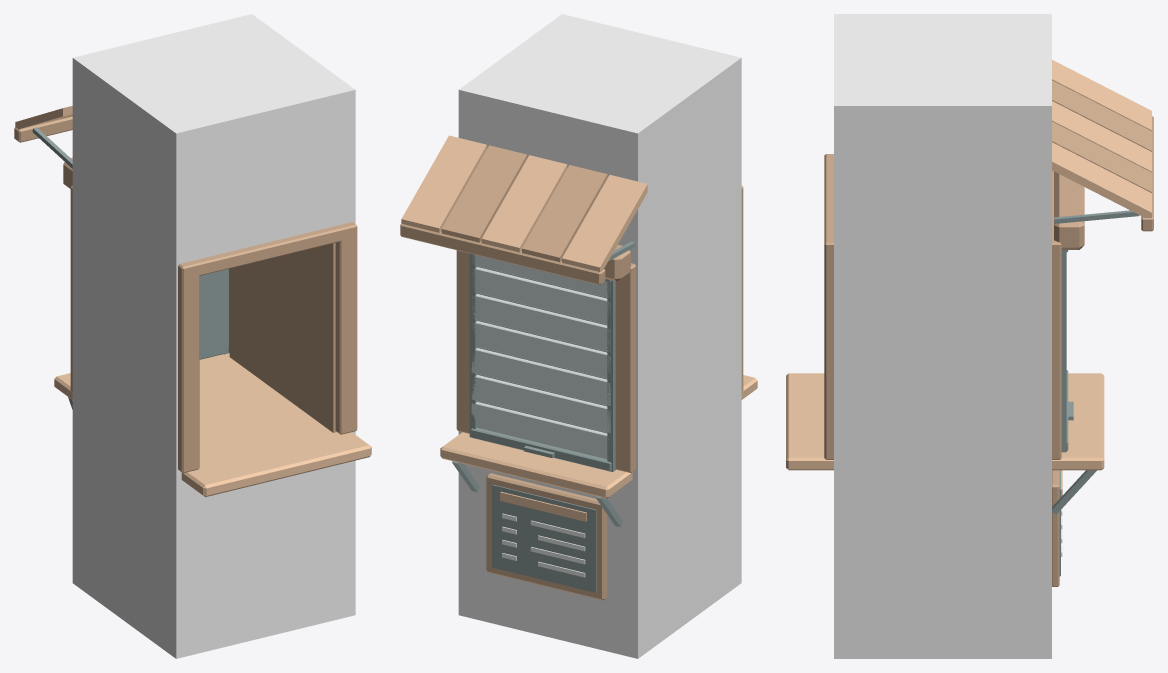
The model's file is walkup_hatch_wood.glb.
3 views of the same model, side by side, from view 1: azimuth 30°, elevation 25°; view 2: azimuth 150°, elevation 25°; view 3: azimuth 270°, elevation 25° (orthographic). The views are drawn at different scales.
Parts seen in each view (by area): view 1: WallBody, Frame, LedgeSill, LedgeInner, ShutterClosed, Awning, LedgeOuter; view 2: WallBody, ShutterClosed, Awning, MenuBoard, Frame, LedgeOuter, ShutterHousing; view 3: WallBody, Awning, Frame, LedgeOuter, LedgeInner, ShutterHousing, MenuBoard.
Part boxes in pixels (bbox=[...]): WallBody: bbox=[72, 14, 355, 658]; Frame: bbox=[70, 185, 357, 473]; LedgeSill: bbox=[199, 358, 331, 464]; LedgeInner: bbox=[181, 432, 371, 497]; ShutterClosed: bbox=[199, 269, 228, 359]; Awning: bbox=[14, 106, 72, 168]; LedgeOuter: bbox=[54, 353, 230, 409]; WallBody: bbox=[458, 14, 741, 658]; ShutterClosed: bbox=[470, 254, 611, 471]; Awning: bbox=[400, 135, 647, 284]; MenuBoard: bbox=[486, 473, 607, 600]; Frame: bbox=[456, 186, 743, 472]; LedgeOuter: bbox=[440, 432, 632, 527]; ShutterHousing: bbox=[604, 244, 630, 281]; WallBody: bbox=[834, 14, 1051, 658]; Awning: bbox=[1052, 60, 1153, 231]; Frame: bbox=[824, 154, 1066, 459]; LedgeOuter: bbox=[1052, 373, 1104, 514]; LedgeInner: bbox=[786, 373, 833, 470]; ShutterHousing: bbox=[1054, 171, 1084, 249]; MenuBoard: bbox=[1052, 470, 1062, 586].
Bounding box in the file's own units: 0.5091 × 1.27 × 0.7673.
